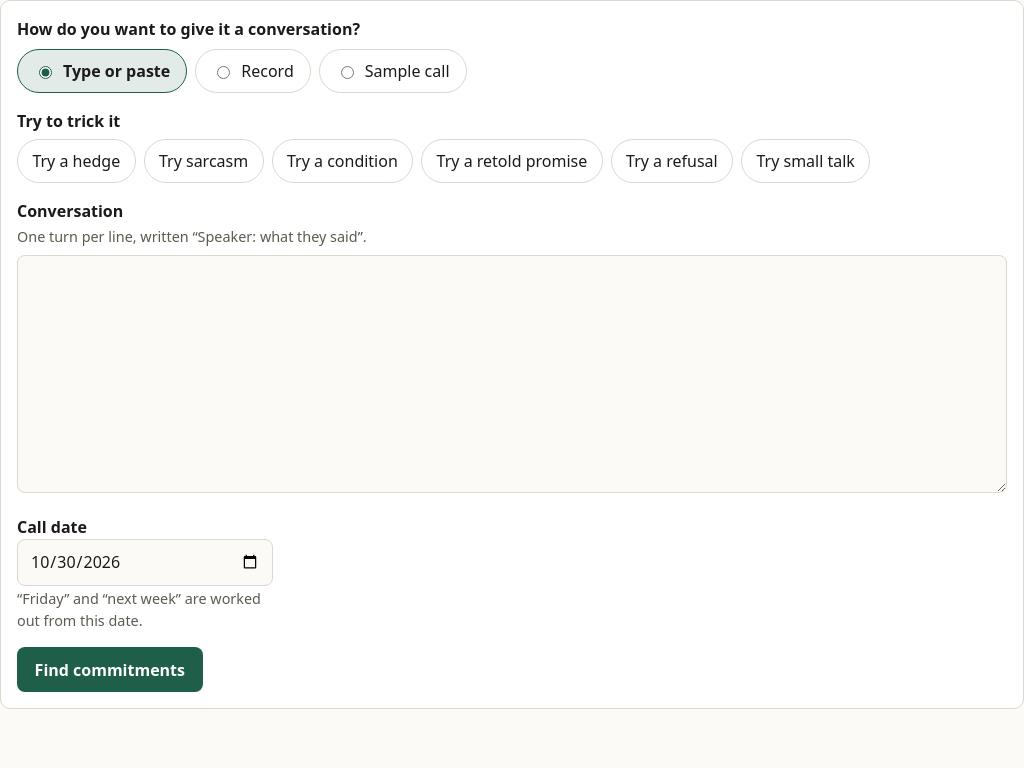
Demo › offers the chips only in text mode
expect the element "Try to trick it" is shown: met, box [17,109,1007,183]
Step 1. Click the radio button labelled "Record" → (224, 72), box [217,66,230,79]
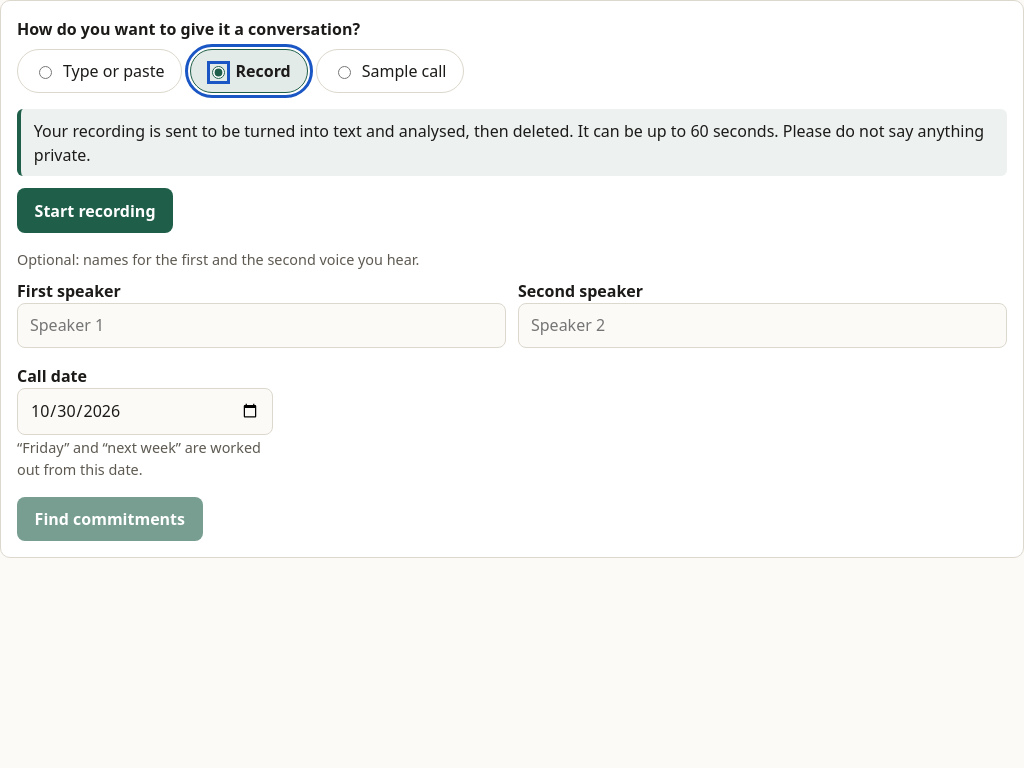
expect the text "Try to trick it" is gone: met
